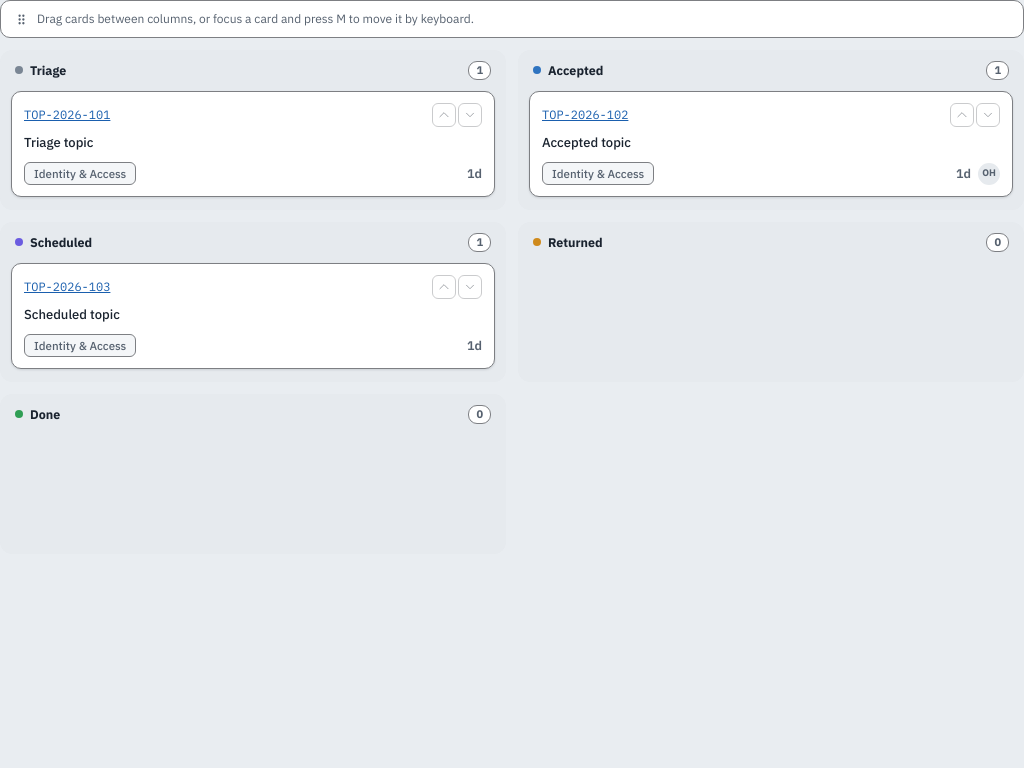
Test case: Kanban (P5b) › cancels the Returned dialog without transitioning the topic
This screenshot has width=1024, height=768.
Press M in the element "TOP-2026-101 Triage topic Identity & Access 1d", box x1=11 y1=91 x2=495 y2=197
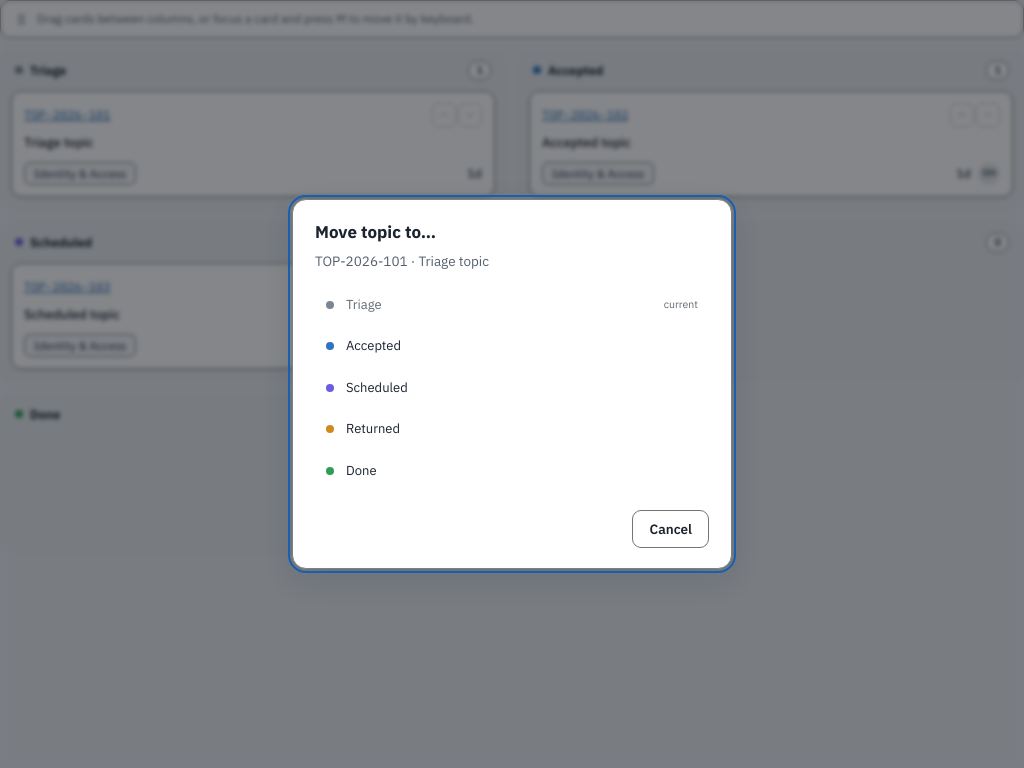
Click the button "Returned": point(373, 429) x1=315 y1=409 x2=709 y2=449
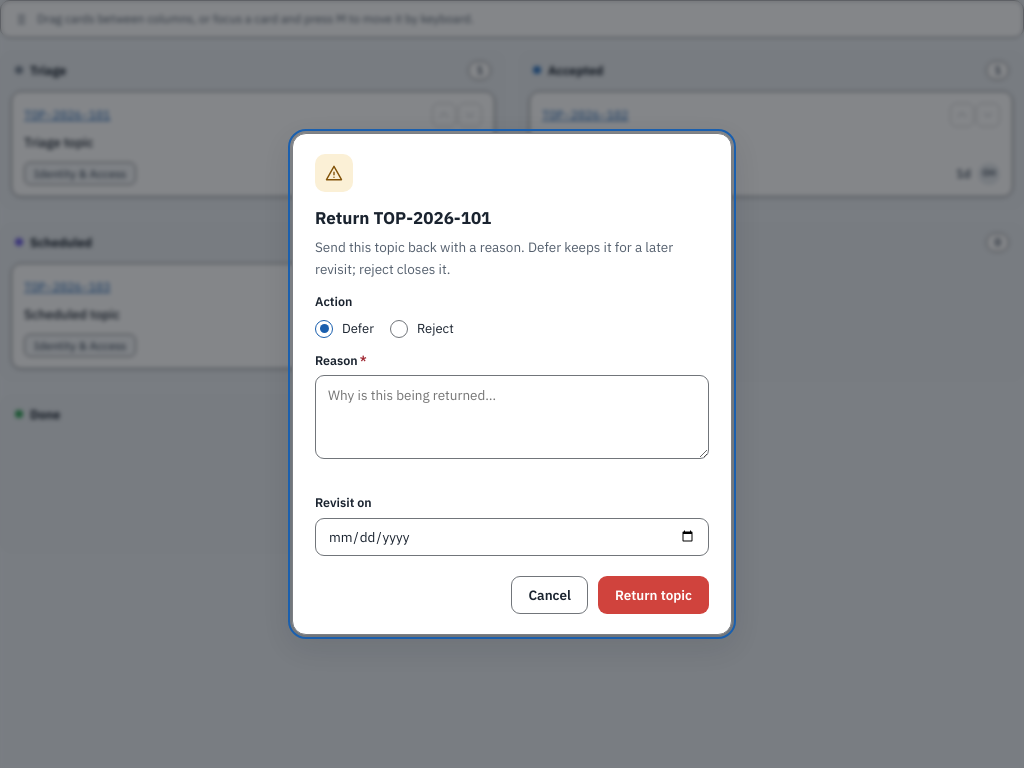
Result: the button "Return topic" is shown at x1=598 y1=576 x2=709 y2=614
Click the button "Cancel": point(550, 595) x1=511 y1=576 x2=588 y2=614
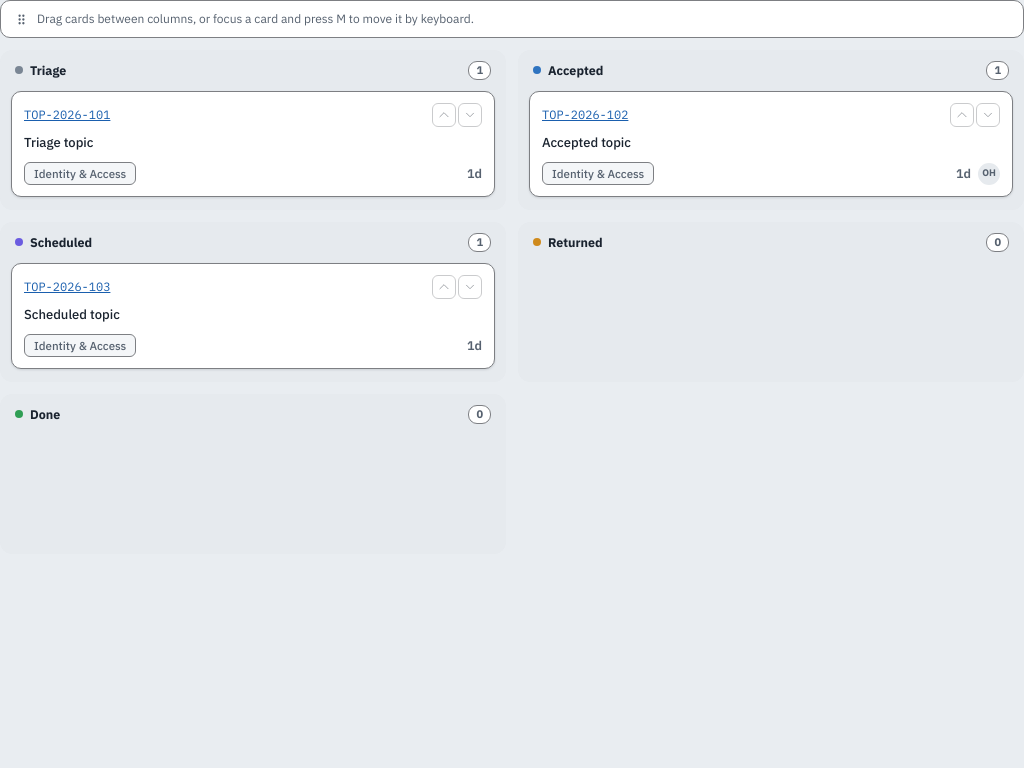
Result: the button "Return topic" is gone
